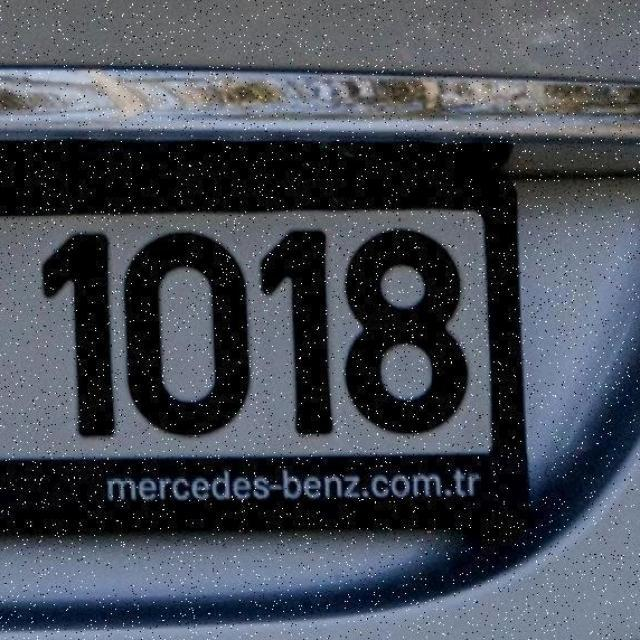license-plate: (9, 175, 575, 498)
